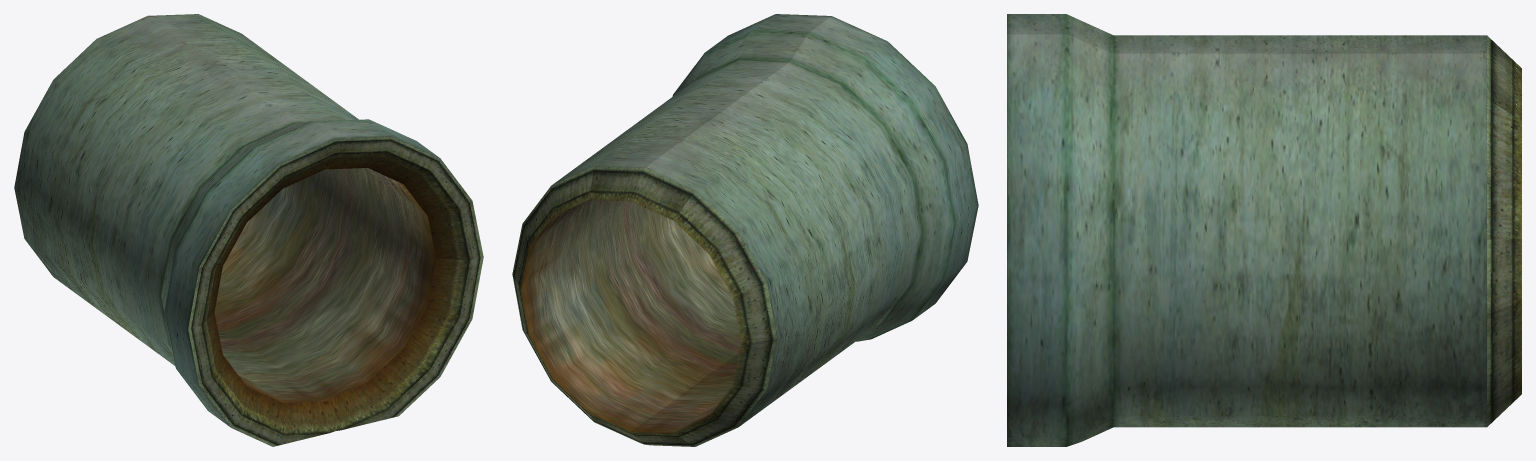
Rendered from pipes_concrete_very_large.fbx.
The picture shows the model from 3 angles, left to right: view 1: azimuth 30°, elevation 25°; view 2: azimuth 150°, elevation 25°; view 3: azimuth 270°, elevation 25°; orthographic projection. The views are drawn at different scales.
Parts seen in each view (by area): view 1: mesh_0; view 2: mesh_0; view 3: mesh_0.
Boxes of the visible parts, x1=… form: mesh_0: x1=14, y1=14, x2=483, y2=446; mesh_0: x1=512, y1=14, x2=978, y2=446; mesh_0: x1=1007, y1=14, x2=1521, y2=446.
Bounding box in the file's own units: 340 × 323 × 403.
Materials: 1 (1 with a texture image).
